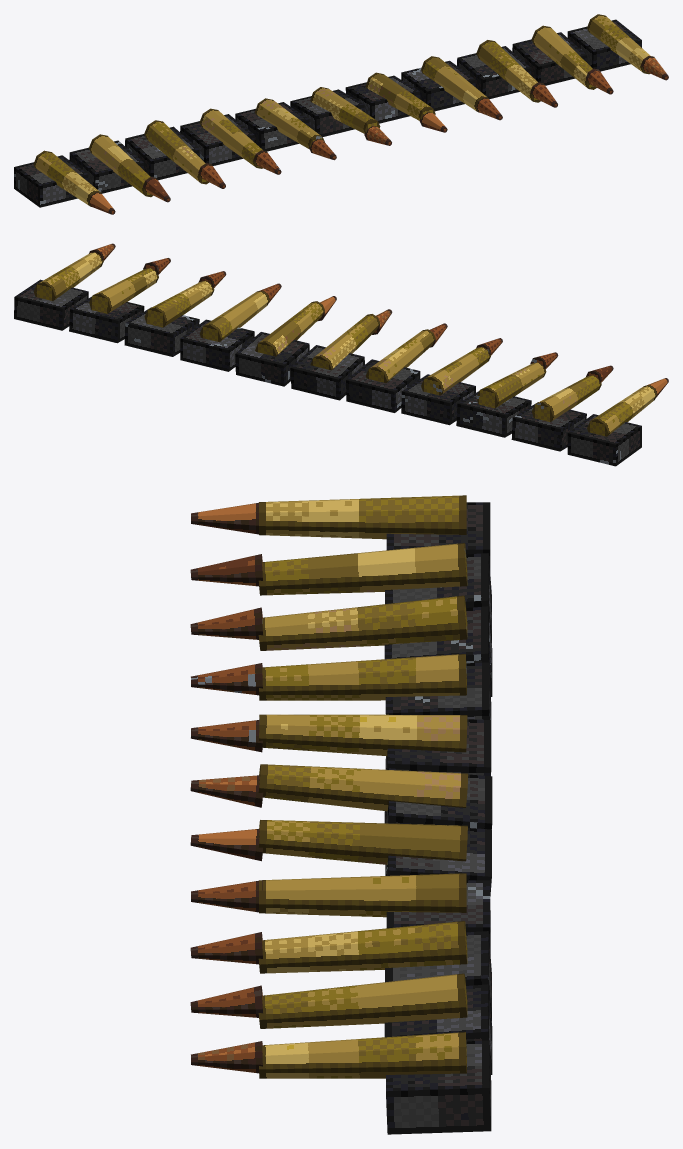
File: SM_AmmoBelt_01.glb
3 renders of one model, top to bottom at view 1: azimuth 30°, elevation 25°; view 2: azimuth 150°, elevation 25°; view 3: azimuth 270°, elevation 25°, orthographic. The views are drawn at different scales.
Parts seen in each view (by area): view 1: SM_AmmoBelt_01; view 2: SM_AmmoBelt_01; view 3: SM_AmmoBelt_01.
Boxes of the visible parts, x1,y1,x2,y2 form: SM_AmmoBelt_01: (14,14,668,214); SM_AmmoBelt_01: (14,243,668,466); SM_AmmoBelt_01: (190,495,492,1134).
Size of the model in its own units: 0.348 by 0.0235 by 0.0756.
Materials: 1 (1 with a texture image).
